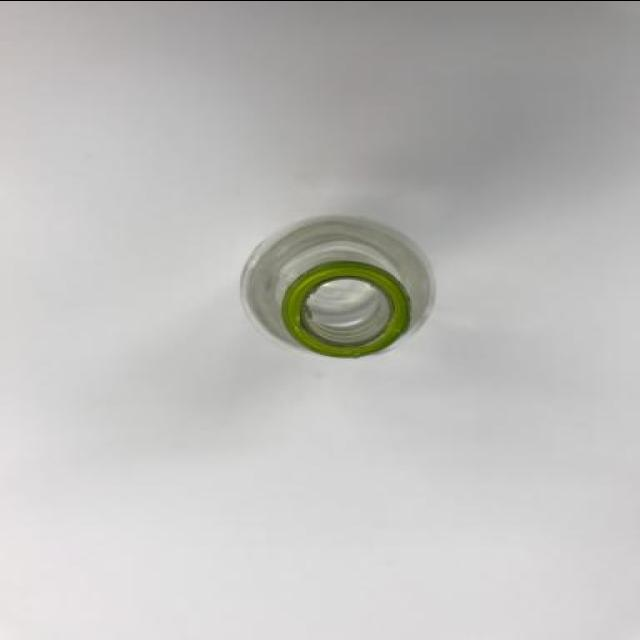Glass Bottle: (233, 215, 435, 360)
